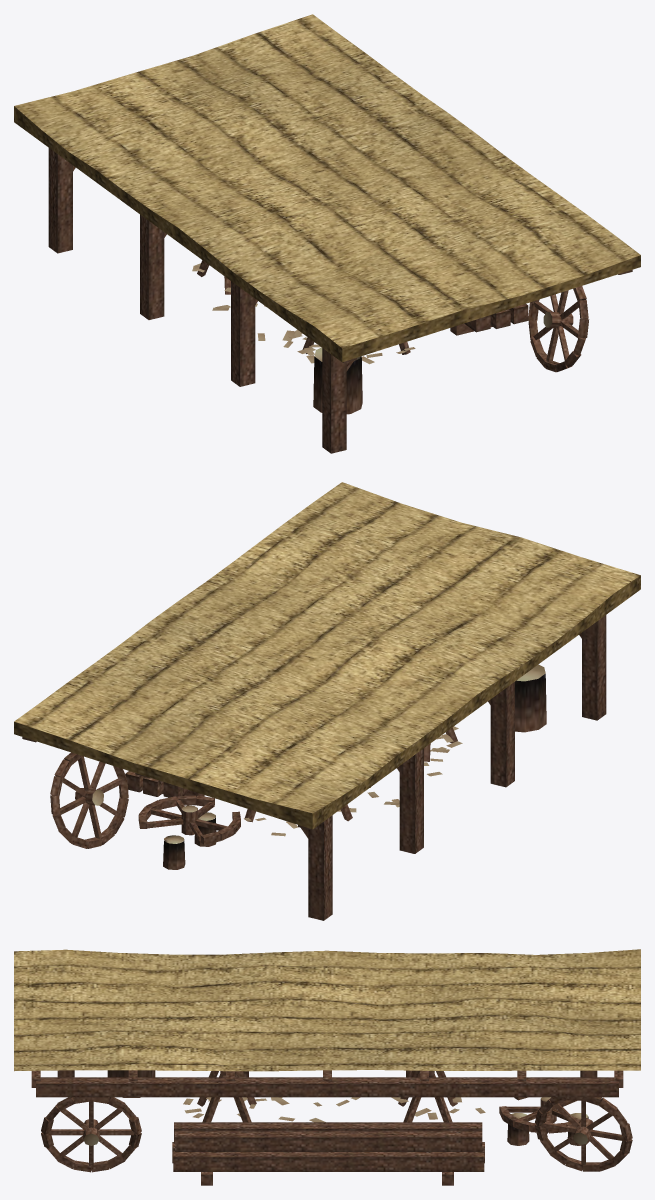
Rendered from pristresek-tesar.glb.
3 views of the same model, one above another, from view 1: azimuth 30°, elevation 25°; view 2: azimuth 150°, elevation 25°; view 3: azimuth 270°, elevation 25° (orthographic). The views are drawn at different scales.
Visible parts, largest first — view 1: pristresek-tesar; view 2: pristresek-tesar; view 3: pristresek-tesar.
Part boxes in pixels (x1,y1,x2,y2): pristresek-tesar: (14, 14, 640, 453); pristresek-tesar: (14, 482, 640, 920); pristresek-tesar: (14, 949, 640, 1185).
Bounding box in the file's own units: 3.31 × 1.54 × 6.24.
1 material, 1 textured.
